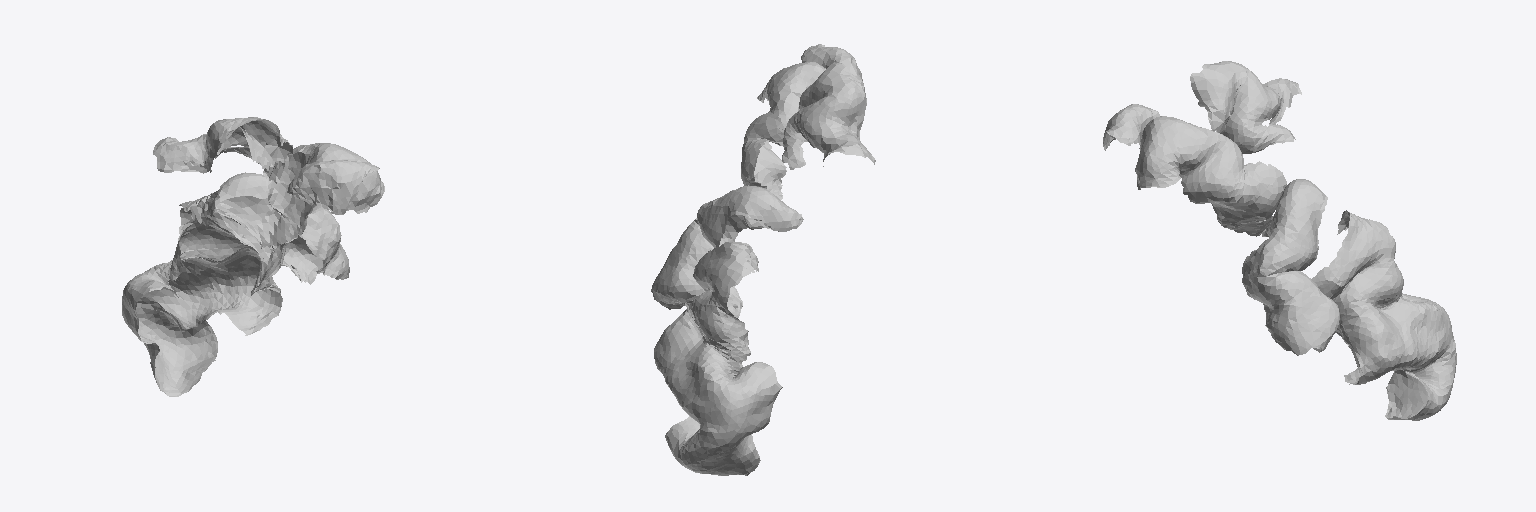
Rendered from L_middle_frontal.obj.
3 renders of one model, left to right at view 1: azimuth 30°, elevation 25°; view 2: azimuth 150°, elevation 25°; view 3: azimuth 270°, elevation 25°, orthographic.
Visible parts, largest first — view 1: R_middle_frontal; view 2: R_middle_frontal; view 3: R_middle_frontal.
Boxes of the visible parts, box(x1,y1,x2,y2) form: R_middle_frontal: box(122, 117, 384, 396); R_middle_frontal: box(651, 44, 875, 475); R_middle_frontal: box(1103, 61, 1456, 420).
Bounding box in the file's own units: 170 × 275 × 254.